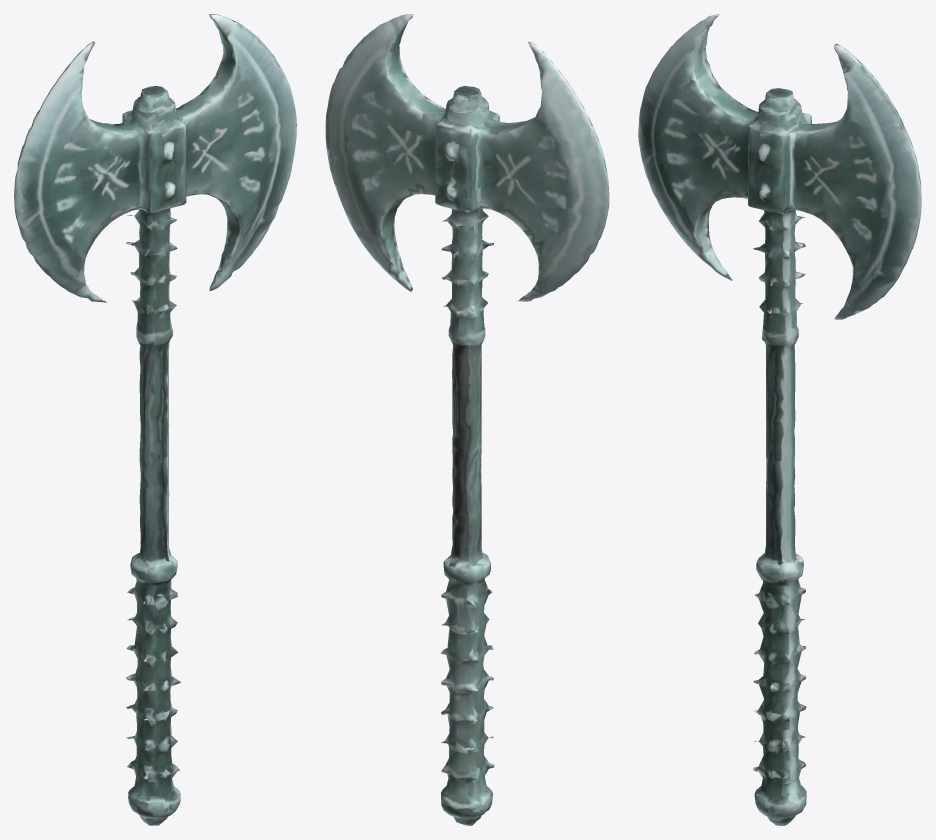
Rendered from ayaz_balta.glb.
3 renders of one model, left to right at view 1: azimuth 30°, elevation 25°; view 2: azimuth 150°, elevation 25°; view 3: azimuth 330°, elevation 25°, orthographic.
Bounding box in the file's own units: 0.2834 × 0.7656 × 0.0641.
Materials: 1 (1 with a texture image).
